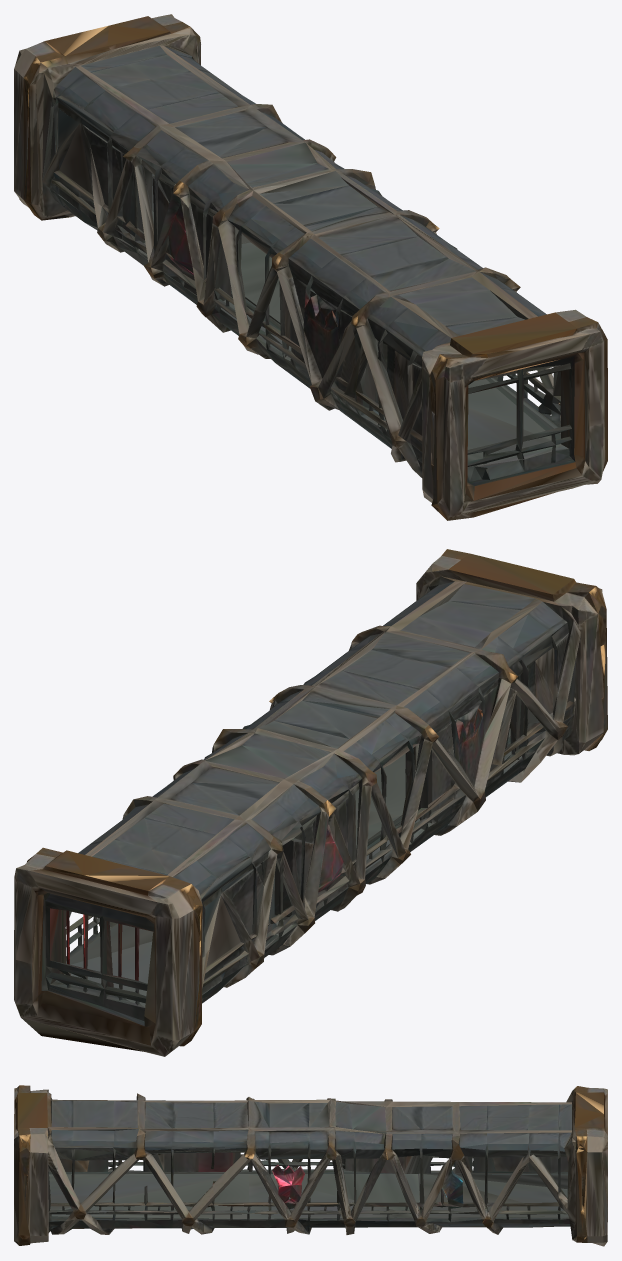
3 views of the same model, one above another, from view 1: azimuth 30°, elevation 25°; view 2: azimuth 150°, elevation 25°; view 3: azimuth 270°, elevation 25° (orthographic). The views are drawn at different scales.
Parts seen in each view (by area): view 1: s06; view 2: s06; view 3: s06.
Part boxes in pixels (x1,y1,x2,y2): s06: (14, 14, 607, 520); s06: (14, 549, 607, 1056); s06: (14, 1085, 607, 1246).
Size of the model in its own units: 6.4 by 6 by 27.41.
1 material, 1 textured.
